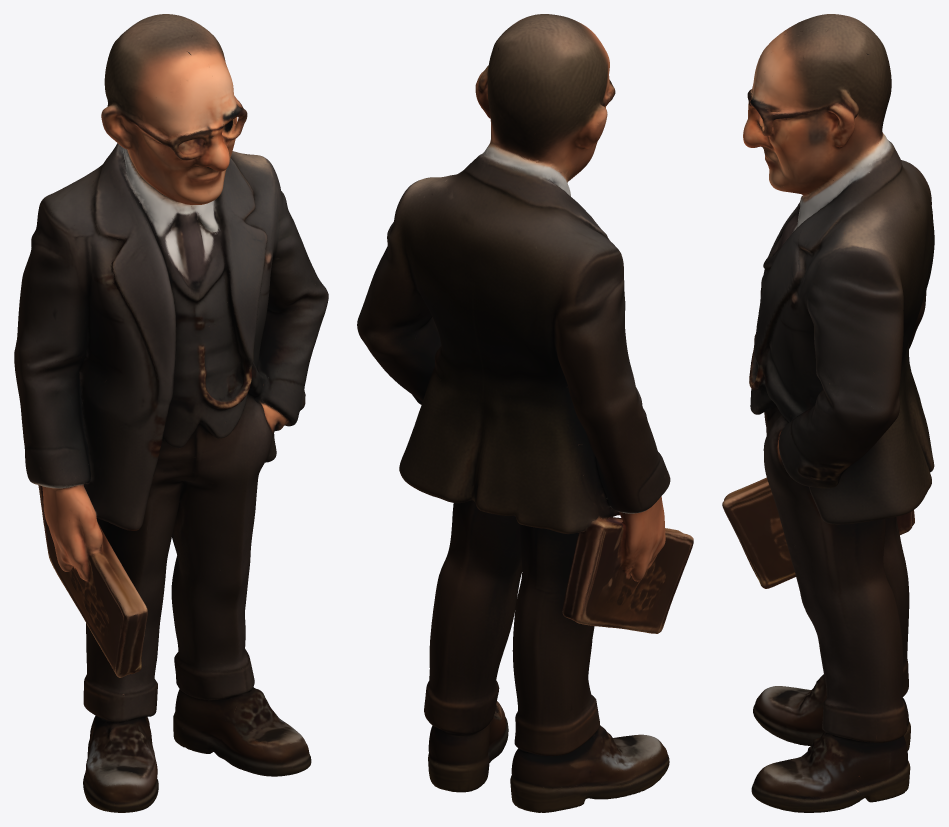
File: mentor-wyckoff.glb
3 renders of one model, left to right at view 1: azimuth 30°, elevation 25°; view 2: azimuth 150°, elevation 25°; view 3: azimuth 270°, elevation 25°, orthographic. The views are drawn at different scales.
Parts seen in each view (by area): view 1: geometry_0; view 2: geometry_0; view 3: geometry_0.
Part boxes in pixels (box(x1,y1,x2,y2)): geometry_0: box(14, 14, 328, 812); geometry_0: box(357, 14, 693, 812); geometry_0: box(722, 14, 934, 812).
Size of the model in its own units: 0.4033 by 1 by 0.2603.
Materials: 1 (1 with a texture image).
